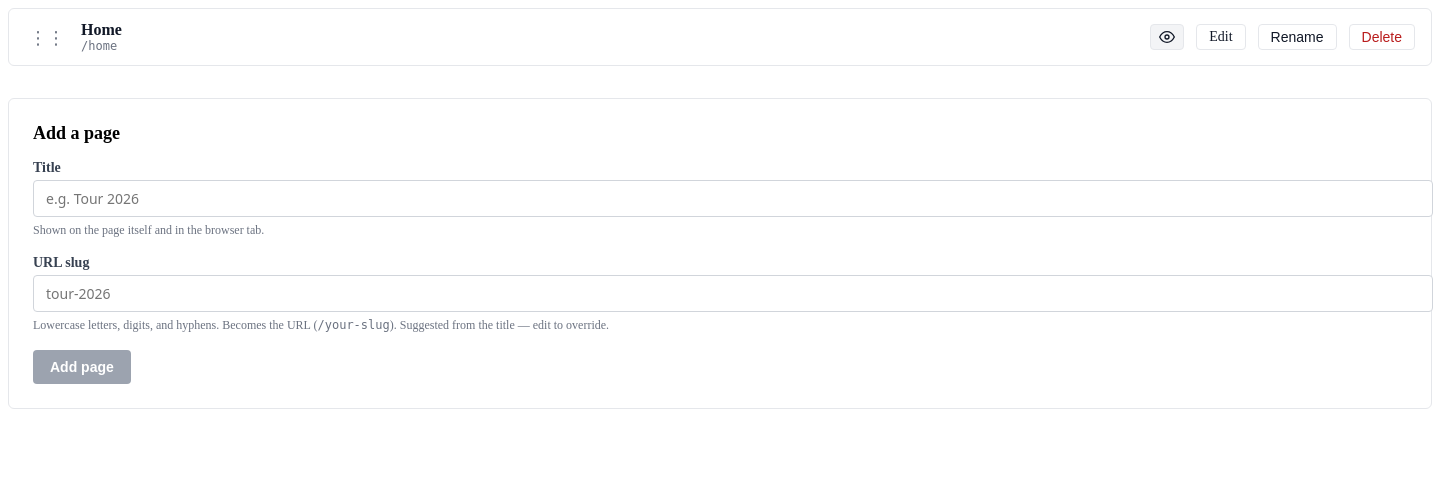
Scenario: <PagesPanel> create / delete › creates through the pages item route with values the route's schema accepts
Type "Tour 2026" into the field labelled "Title". click: (733, 198)
box: [33,180,1433,217]
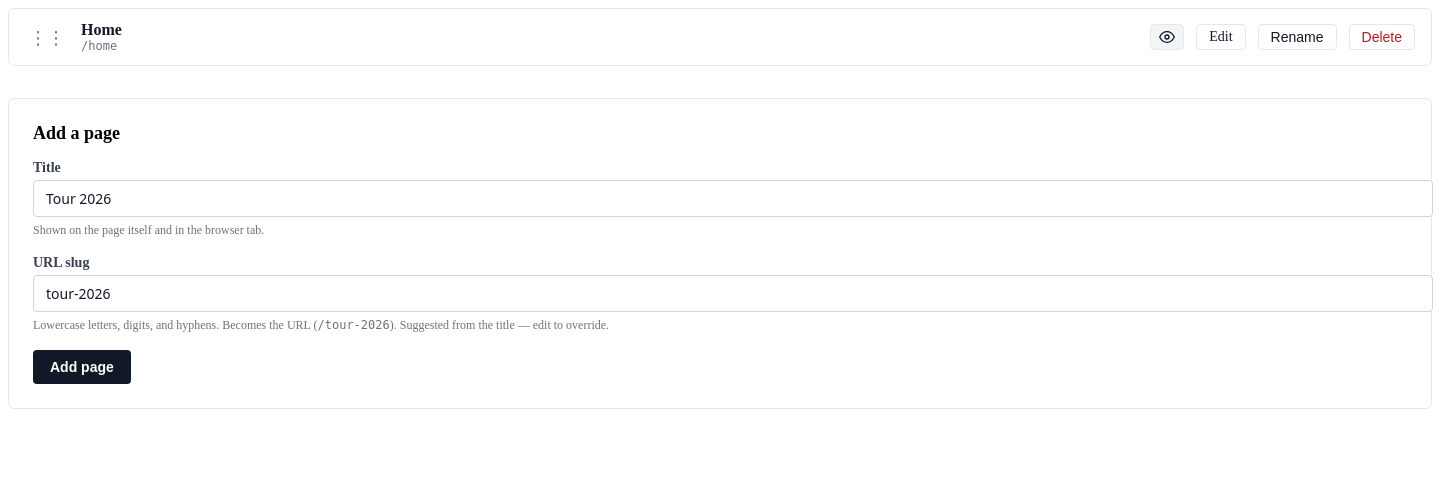
Click the button "Add page". click: (82, 367)
box: [33,350,131,384]
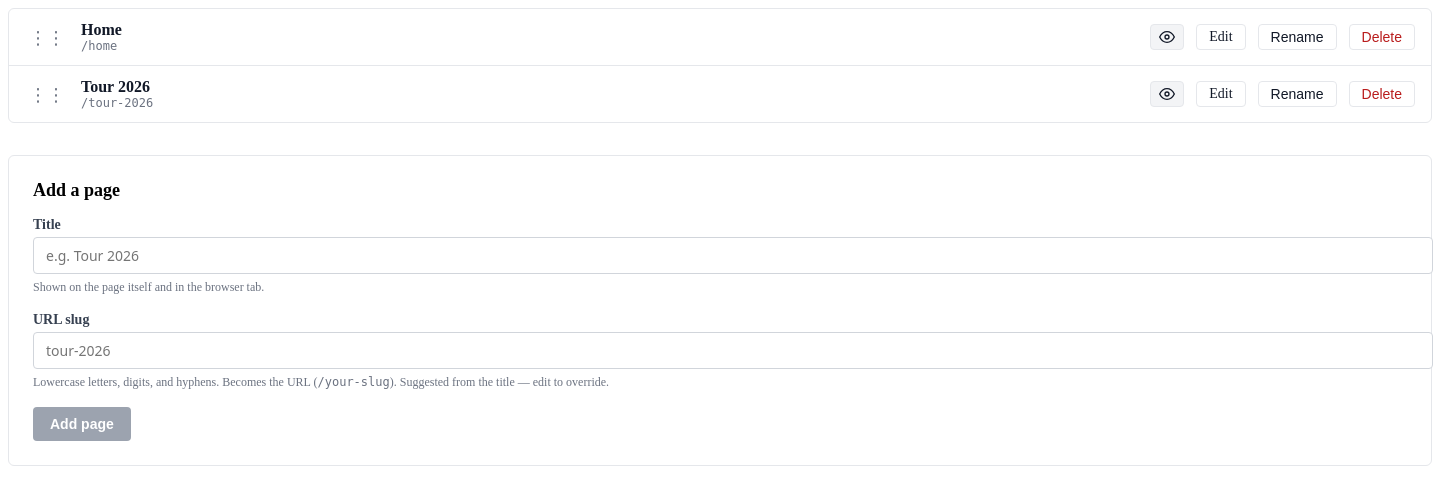
Now the list item with aria-label "Tour 2026, slug tour-2026" is shown, box [9,65,1431,122]
